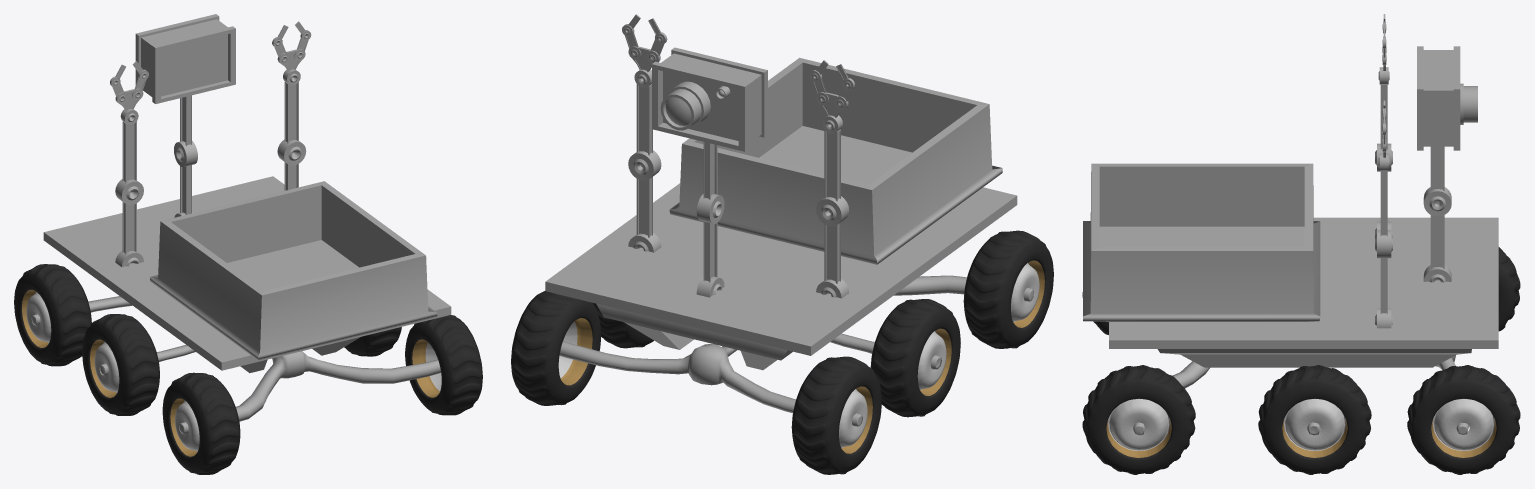
Rendered from Robot_HighPoly.fbx.
The picture shows the model from 3 angles, left to right: view 1: azimuth 30°, elevation 25°; view 2: azimuth 150°, elevation 25°; view 3: azimuth 270°, elevation 25°; orthographic projection. The views are drawn at different scales.
Visible parts, largest first — view 1: Body, Head, Tire5, Tire4, Tire3, Tire1, Tire_Support_Frame, L_Arm_Arm_2 (×2), L_Arm_Joint_2 (×2), Tire2, L_Arm_Arm_1, Head_Arm_1 (+2 smaller); view 2: Body, Head, Tire3, Tire5, Tire4, Tire6, Tire_Support_Frame, L_Arm_Arm_2 (×2), L_Arm_Arm_1 (×2), L_Arm_Joint_2 (×2), Tire2, Head_Arm_1 (+2 smaller); view 3: Body, Tire1, Tire6, Tire2, Head, Tire3, Tire_Support_Frame, Head_Arm_1, Head_Joint_2, Head_Arm_2, L_Arm_Arm_2.
Boxes of the visible parts, x1,y1,x2,y2 form: Body: (43,176,451,373); Head: (135,14,235,103); Tire5: (162,372,240,474); Tire4: (82,314,159,415); Tire3: (14,264,91,366); Tire1: (405,315,482,415); Tire_Support_Frame: (31,296,440,433); L_Arm_Arm_2 (×2): (122,81,298,183); L_Arm_Joint_2 (×2): (115,139,306,205); Tire2: (344,327,401,356); L_Arm_Arm_1: (122,202,136,254); Head_Arm_1: (180,165,191,214); Body: (545,57,1017,370); Head: (652,47,767,151); Tire3: (791,356,881,474); Tire5: (963,230,1053,348); Tire4: (870,299,960,417); Tire6: (511,291,601,405); Tire_Support_Frame: (559,275,1033,426); L_Arm_Arm_2 (×2): (636,84,840,201); L_Arm_Arm_1 (×2): (636,177,840,283); L_Arm_Joint_2 (×2): (628,150,849,226); Tire2: (593,303,653,348); Head_Arm_1: (703,221,717,282); Body: (1083,163,1498,367); Tire1: (1082,365,1195,474); Tire6: (1407,365,1520,474); Tire2: (1258,365,1371,474); Head: (1417,46,1477,150); Tire3: (1498,247,1520,331); Tire_Support_Frame: (1133,355,1468,435); Head_Arm_1: (1430,215,1444,269); Head_Joint_2: (1423,187,1451,216); Head_Arm_2: (1430,146,1444,191); L_Arm_Arm_2: (1380,170,1387,236).
Bounding box in the file's own units: 35.75 × 38.22 × 43.95.
